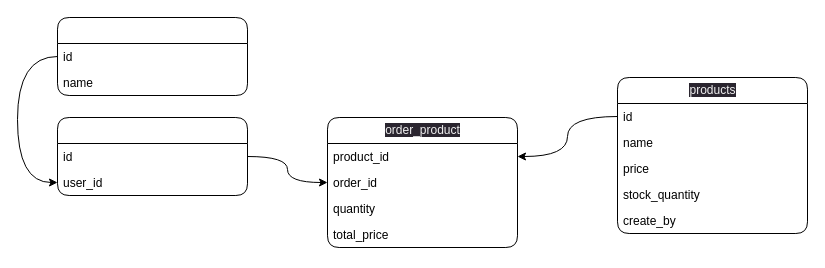
This 825x268 diagram has some shape labels left out. Here are the shapes that lost their labels. From the top down, the box of each, then its label:
(56, 16, 248, 96): users
(56, 116, 248, 196): orders
